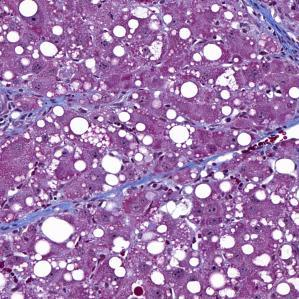fibrosis: (246, 0, 299, 65), (0, 83, 54, 130), (94, 173, 169, 198)
